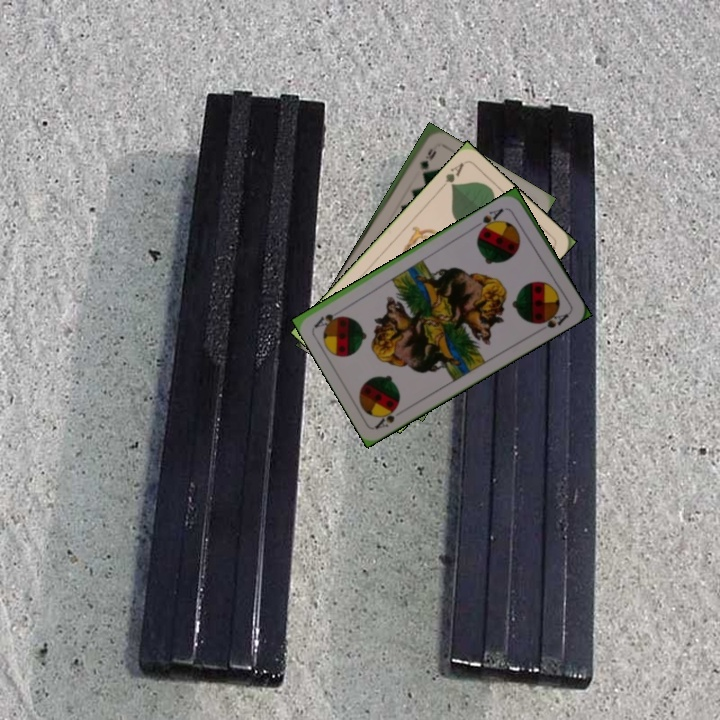G9: (415, 144, 438, 172)
GA: (441, 159, 466, 190)
SA: (472, 204, 506, 234), (372, 401, 401, 431)
